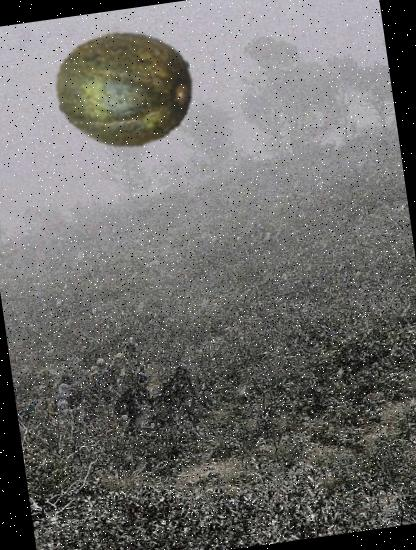Melon: (48, 15, 204, 170)
